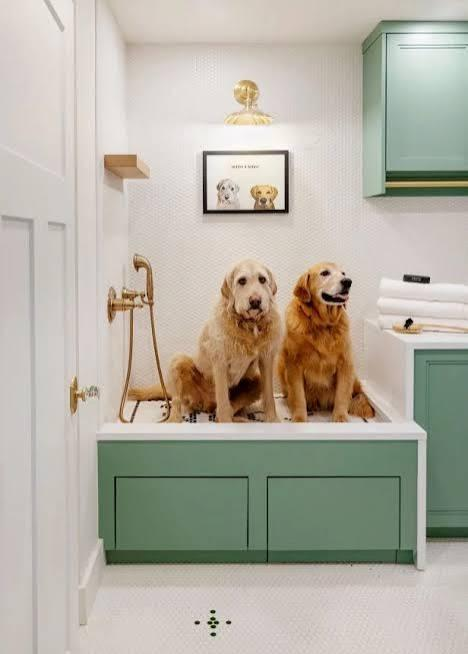adult_dog: (127, 257, 283, 425), (279, 261, 377, 424)
